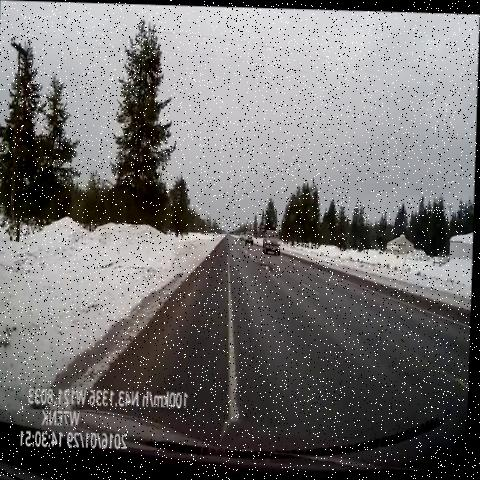pothole: (257, 252, 281, 285)
